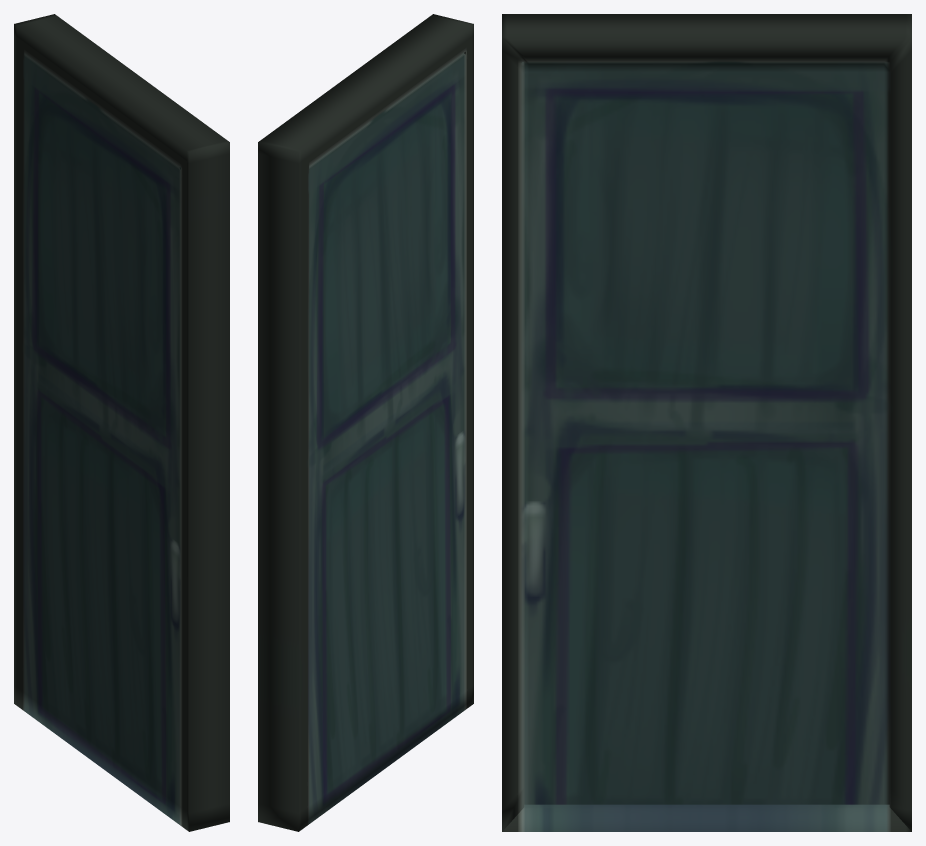
Rendered from Porta.fbx.
3 views of the same model, side by side, from view 1: azimuth 30°, elevation 25°; view 2: azimuth 150°, elevation 25°; view 3: azimuth 270°, elevation 25° (orthographic). The views are drawn at different scales.
Parts seen in each view (by area): view 1: Porta; view 2: Porta; view 3: Porta.
Boxes of the visible parts, x1,y1,x2,y2 form: Porta: [14, 14, 229, 831]; Porta: [258, 14, 473, 831]; Porta: [502, 14, 911, 831].
Size of the model in its own units: 20.2 by 150 by 322.
